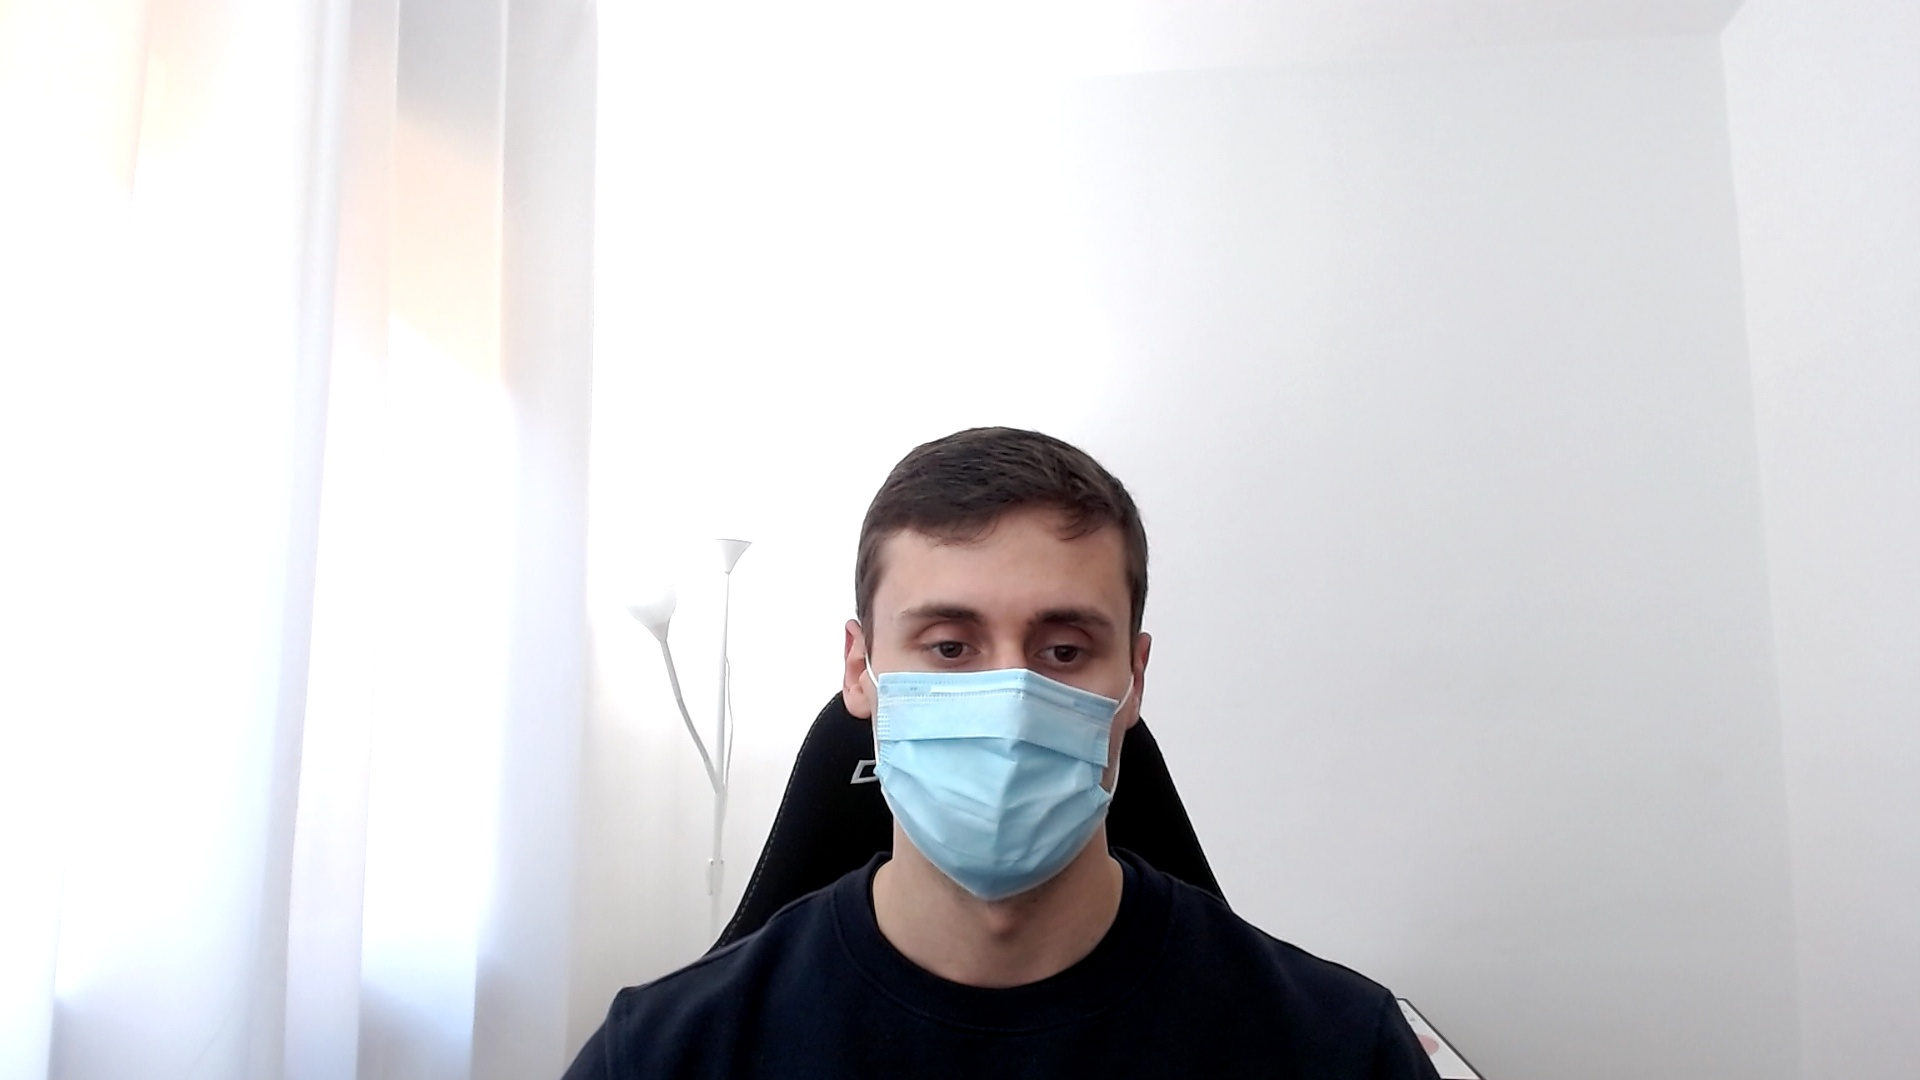Mask: (844, 429, 1153, 903)
